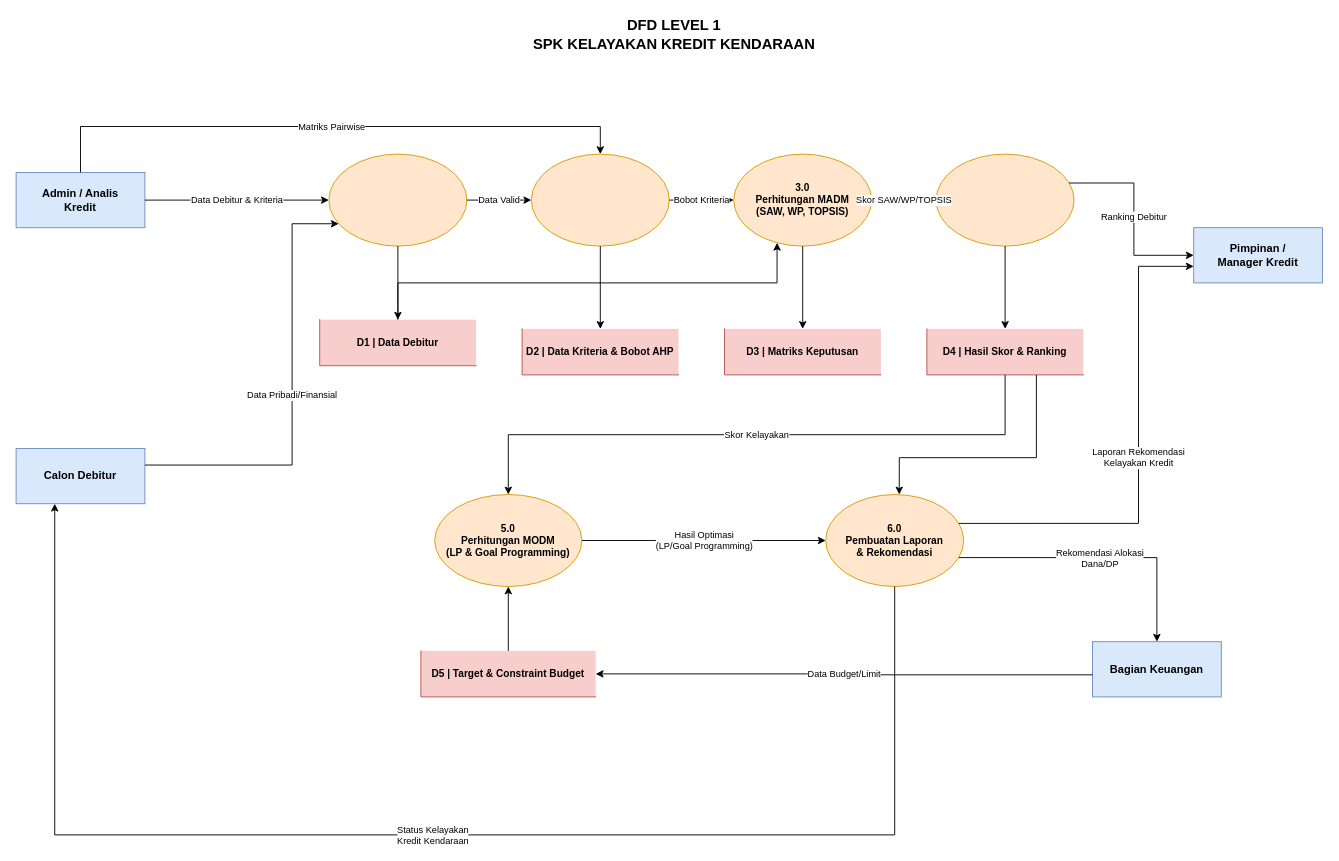
The diagram is 1339 pixels wide and 861 high, and some of its shapes have lost their labels. The shapes that lost their labels are listed below. From the top down, each one's centre as x and y in pixels, then its label:
[397,199]: 1.0 Input & Validasi Data Debitur
[599,199]: 2.0 Pengolahan Bobot Kriteria (AHP)
[1004,199]: 4.0 Perankingan Kelayakan Debitur
